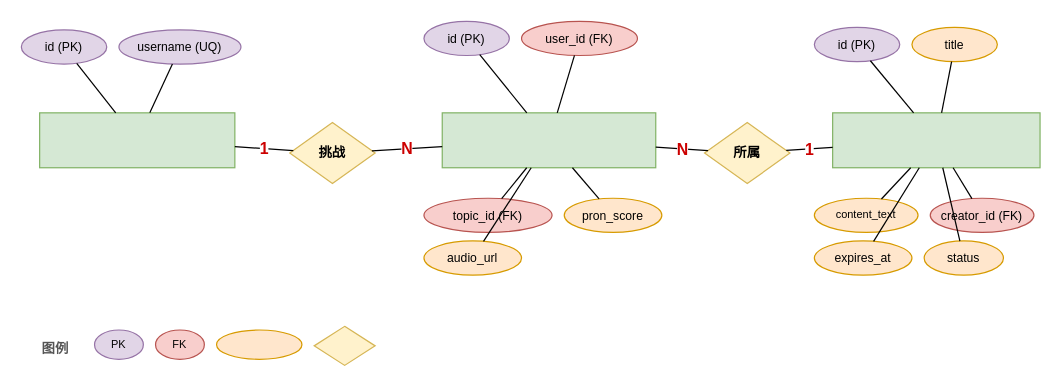
The diagram is 1061 pixels wide and 387 high, and some of its shapes have lost their labels. The shapes that lost their labels are listed below. From the top down, each one's centre as x and y in pixels, then its label:
At [136,140]: "user_profiles 用户画像表".
At [548,140]: "challenge_records 挑战参与记录".
At [935,140]: "challenge_topics 语音挑战主题".
At [258,344]: "普通属性".
At [344,345]: "关系".
